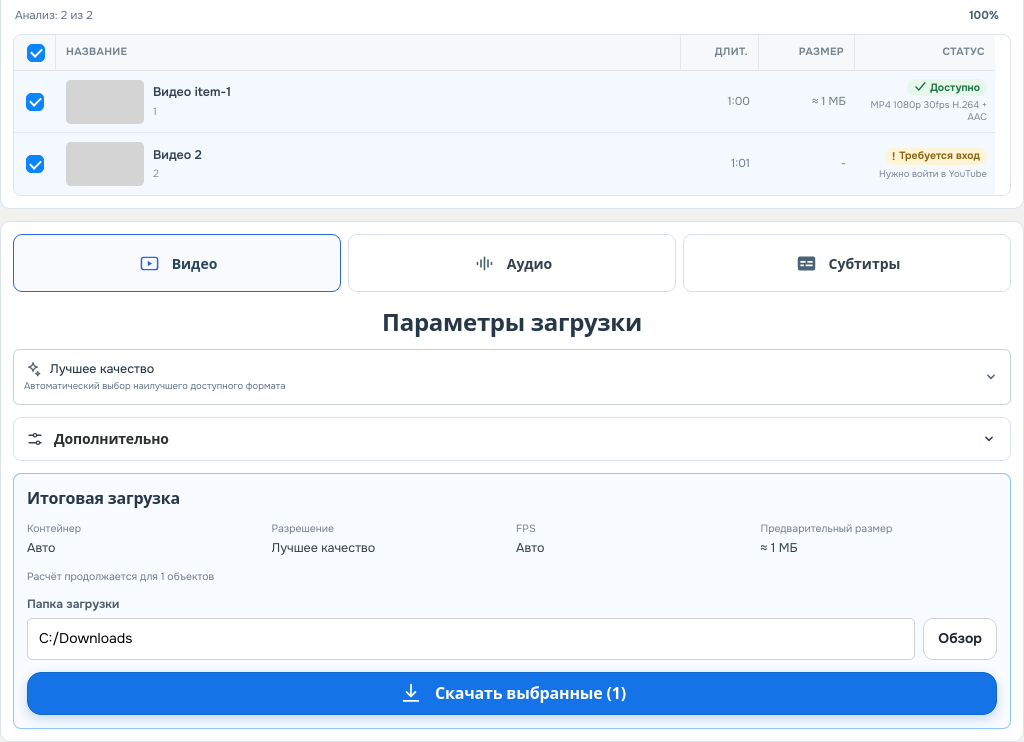
Test: Playlist › counts only compatible selected rows and reports skipped rows
(page scrolled)
Click the button "Скачать выбранные (1)" at (512,694), box [27,672,997,715]
(page scrolled)
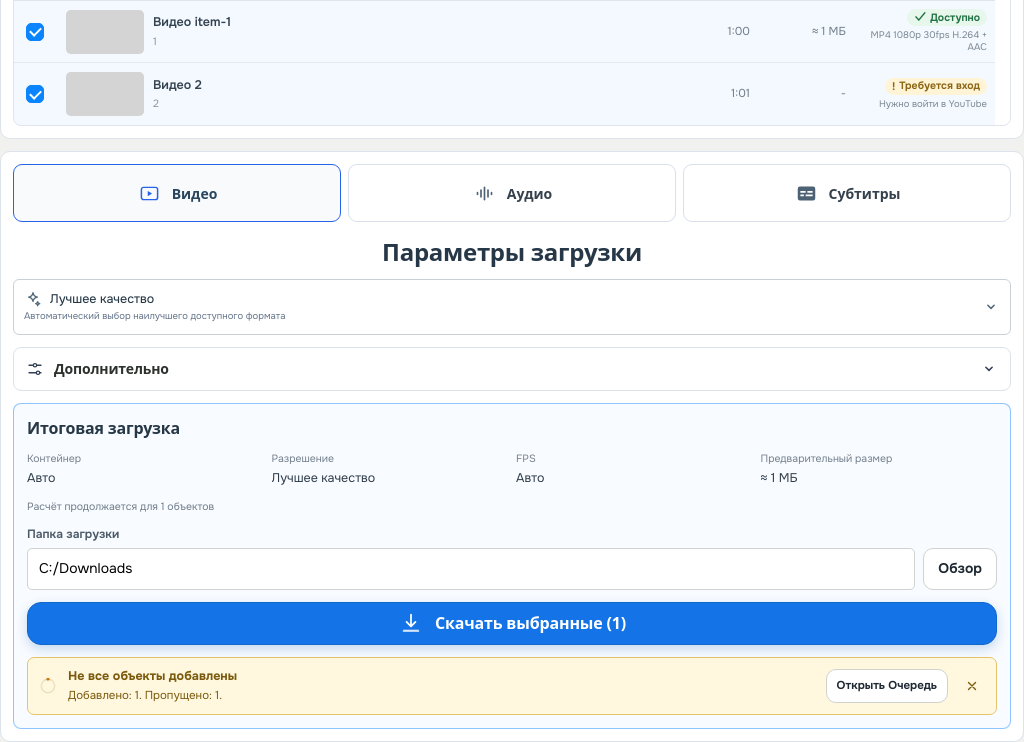
Expected: the text "Добавлено: 1. Пропущено: 1." is shown, [68,688,222,703]
